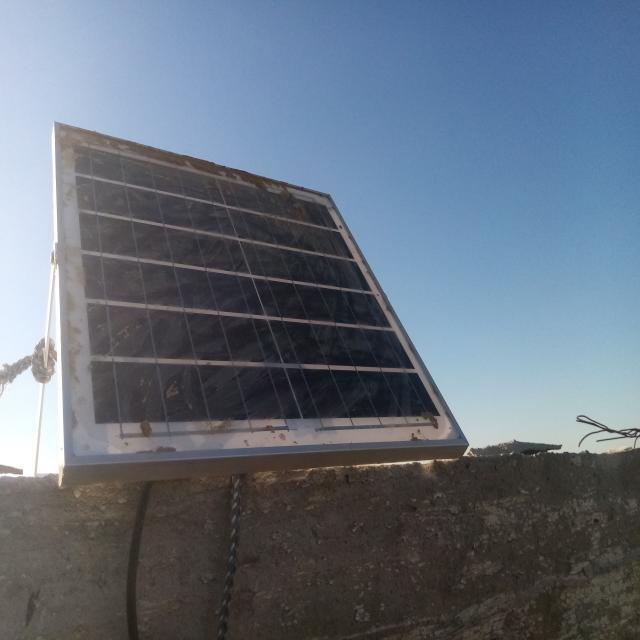faulty: (57, 123, 466, 470)
